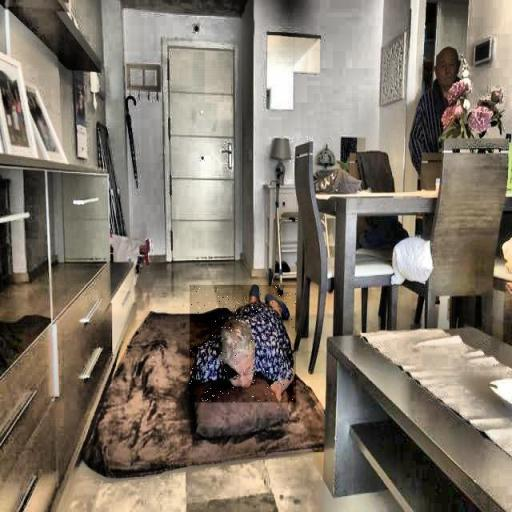Fall: (190, 285, 296, 402)
